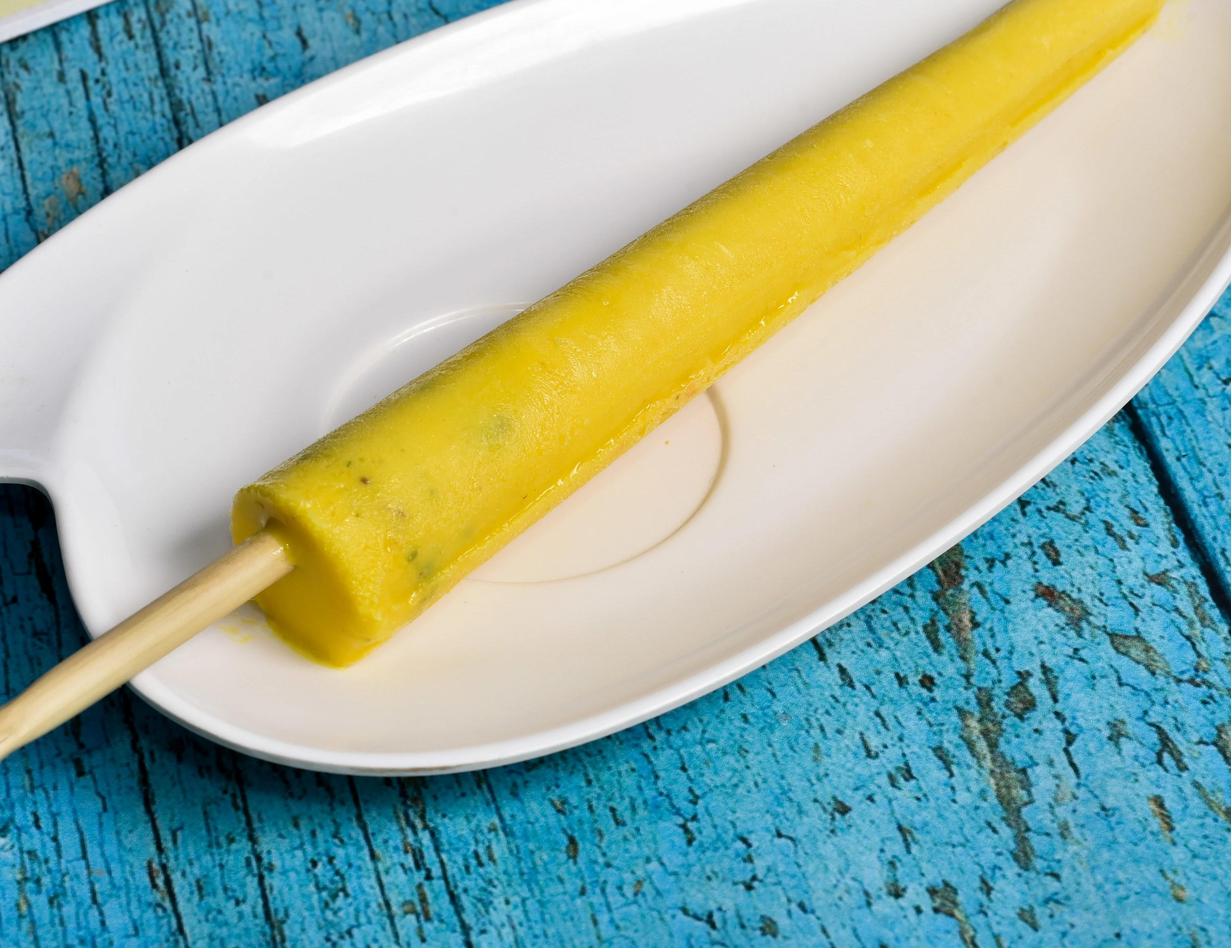Kulfi: (224, 0, 1162, 668)
